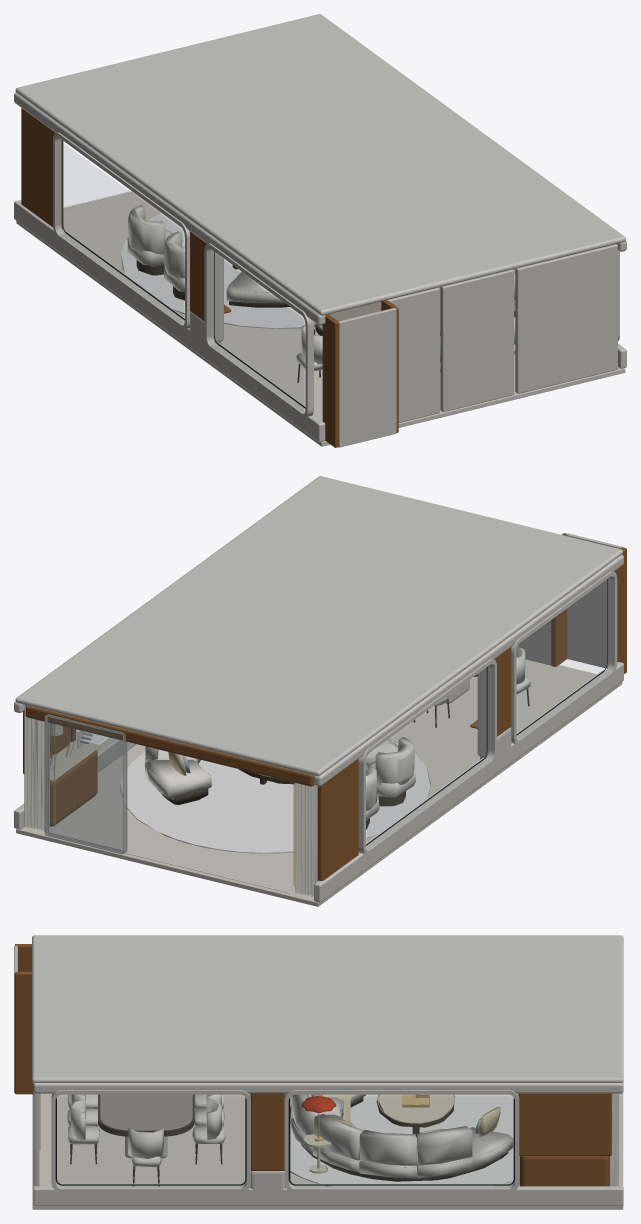
The model's file is context.glb.
3 renders of one model, top to bottom at view 1: azimuth 30°, elevation 25°; view 2: azimuth 150°, elevation 25°; view 3: azimuth 270°, elevation 25°, orthographic. The views are drawn at different scales.
Visible parts, largest first — view 1: saloon | architecture, saloon | none, saloon | furniture; view 2: saloon | architecture, saloon | none, saloon | furniture; view 3: saloon | architecture, saloon | none, saloon | furniture.
Boxes of the visible parts, bbox=[...] form: saloon | architecture: bbox=[14, 14, 626, 447]; saloon | none: bbox=[56, 139, 303, 411]; saloon | furniture: bbox=[63, 191, 515, 407]; saloon | architecture: bbox=[14, 476, 626, 906]; saloon | none: bbox=[45, 578, 614, 852]; saloon | furniture: bbox=[45, 670, 603, 893]; saloon | architecture: bbox=[14, 935, 623, 1209]; saloon | none: bbox=[57, 1097, 512, 1187]; saloon | furniture: bbox=[62, 1093, 619, 1186].
Size of the model in its own units: 5.36 by 2.22 by 9.38.
